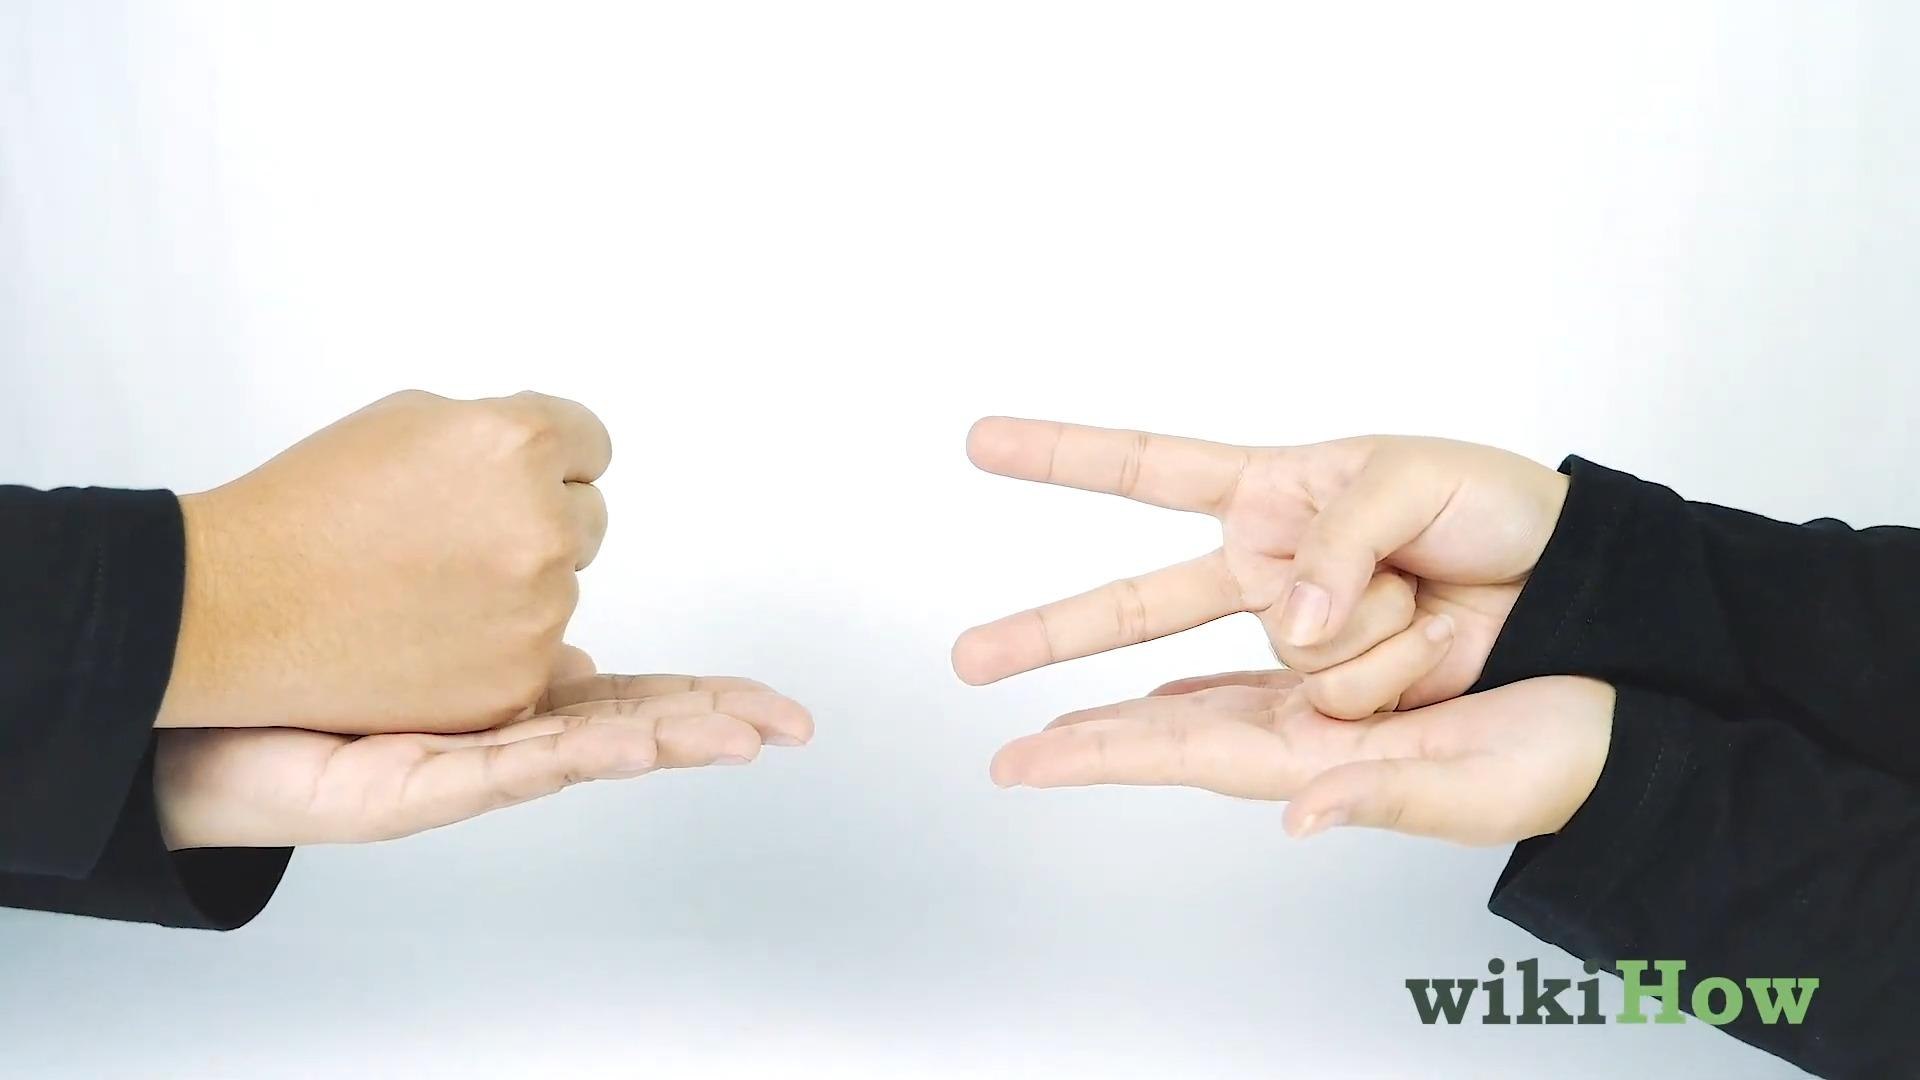Rock: (200, 389, 611, 731)
Scissors: (948, 400, 1551, 733)
